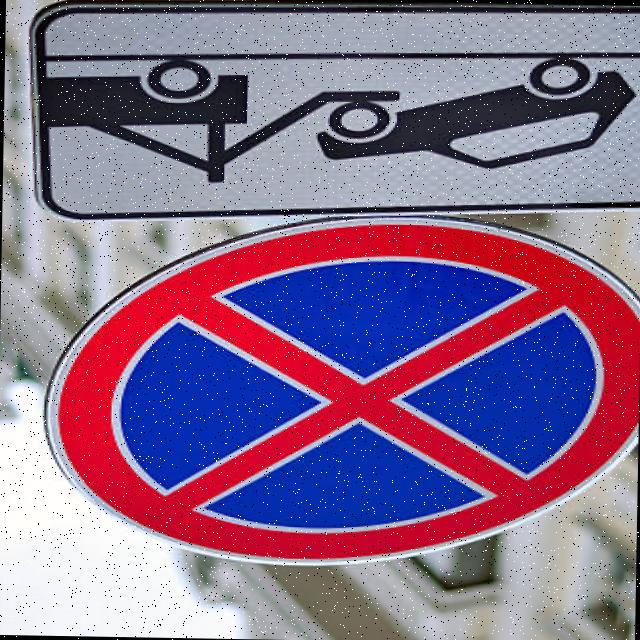no_parking: (50, 208, 640, 579)
